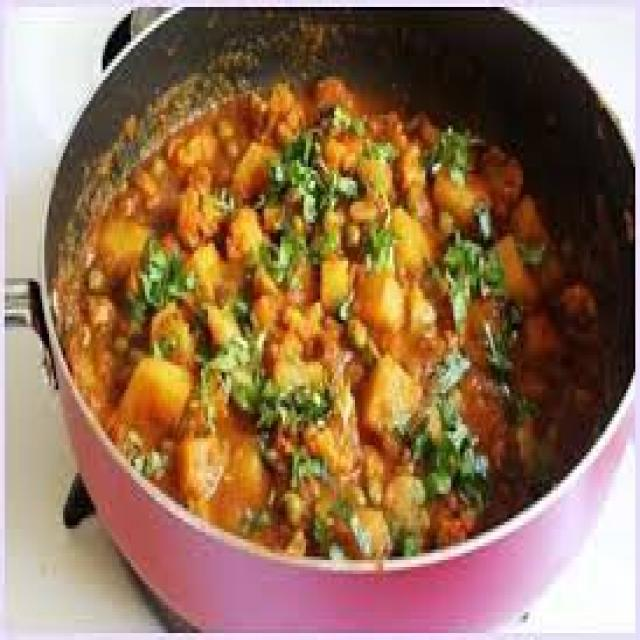Aloo Gobi: (179, 113, 535, 510)
